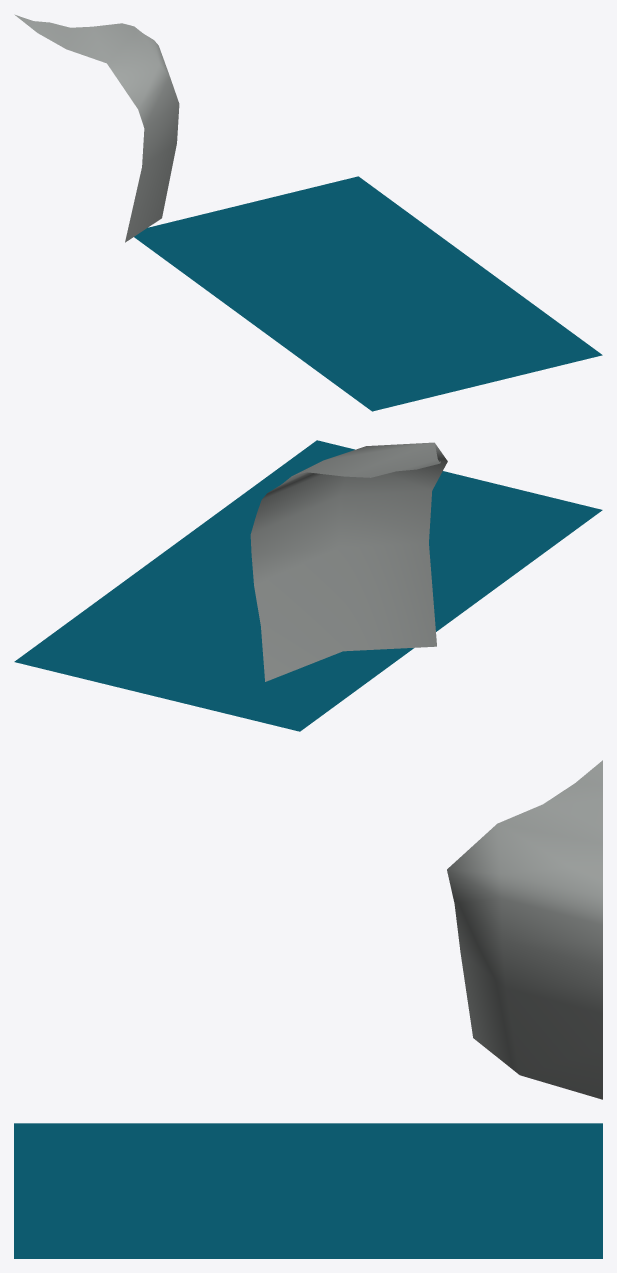
3 views of the same model, one above another, from view 1: azimuth 30°, elevation 25°; view 2: azimuth 150°, elevation 25°; view 3: azimuth 270°, elevation 25° (orthographic). The views are drawn at different scales.
Visible parts, largest first — view 1: G:\FFXIV-MapTools\exports\s1f3\bg\ffxiv\sea_s1\fld\s1f3\bgpl (×5); view 2: G:\FFXIV-MapTools\exports\s1f3\bg\ffxiv\sea_s1\fld\s1f3\bgpl (×5); view 3: G:\FFXIV-MapTools\exports\s1f3\bg\ffxiv\sea_s1\fld\s1f3\bgpl (×5).
Part boxes in pixels (box(x1,y1,x2,y2)): G:\FFXIV-MapTools\exports\s1f3\bg\ffxiv\sea_s1\fld\s1f3\bgpl (×5): box(14, 14, 602, 411); G:\FFXIV-MapTools\exports\s1f3\bg\ffxiv\sea_s1\fld\s1f3\bgpl (×5): box(14, 440, 602, 731); G:\FFXIV-MapTools\exports\s1f3\bg\ffxiv\sea_s1\fld\s1f3\bgpl (×5): box(14, 760, 602, 1258).
Size of the model in its own units: 104 by 71.05 by 128.
